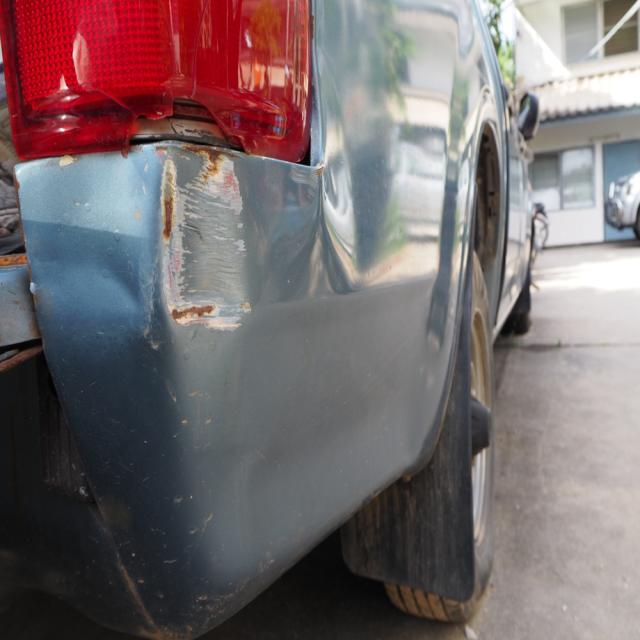Cabossage: (314, 22, 419, 300), (27, 208, 156, 376)
Phare abime: (112, 78, 272, 160)
Rayure: (155, 148, 252, 340)
